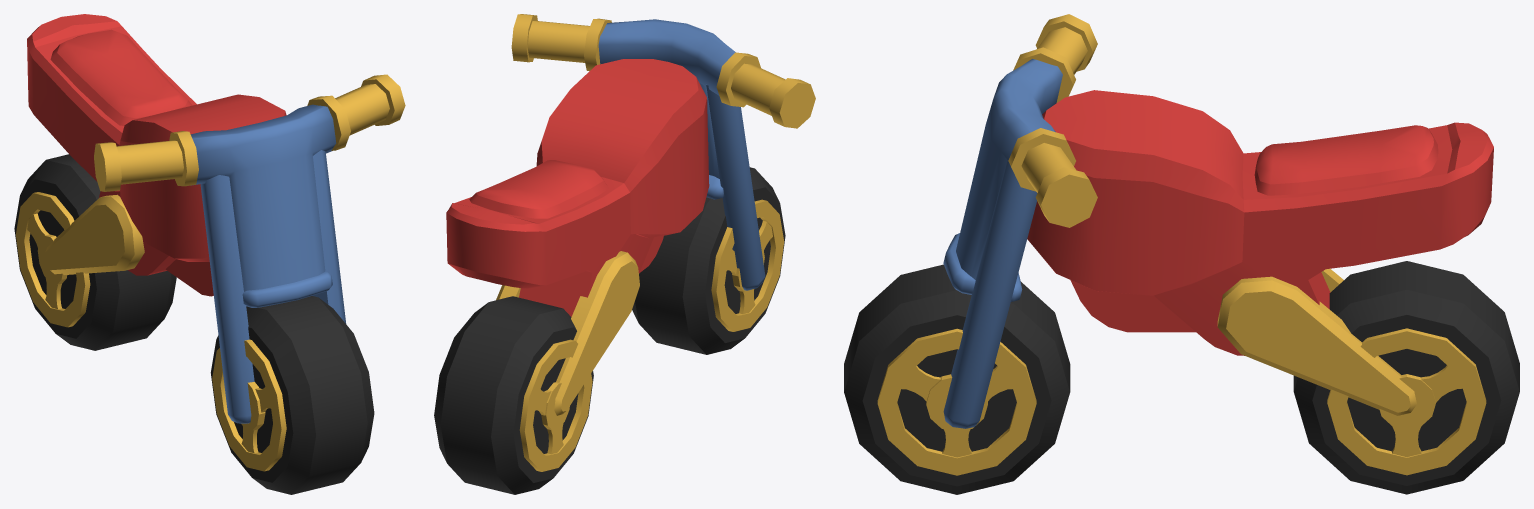
File: ToddlerBike_01.fbx
3 renders of one model, left to right at view 1: azimuth 30°, elevation 25°; view 2: azimuth 150°, elevation 25°; view 3: azimuth 270°, elevation 25°, orthographic. The views are drawn at different scales.
Parts seen in each view (by area): view 1: ToddlerBike_01.001, ToddlerBike_01, ToddlerBike_01_F, ToddlerBike_01_B; view 2: ToddlerBike_01, ToddlerBike_01_B, ToddlerBike_01.001, ToddlerBike_01_F; view 3: ToddlerBike_01, ToddlerBike_01_B, ToddlerBike_01_F, ToddlerBike_01.001.
Boxes of the visible parts, x1=… form: ToddlerBike_01.001: x1=94, y1=74, x2=405, y2=423; ToddlerBike_01: x1=27, y1=14, x2=286, y2=296; ToddlerBike_01_F: x1=210, y1=296, x2=374, y2=494; ToddlerBike_01_B: x1=14, y1=154, x2=176, y2=350; ToddlerBike_01: x1=446, y1=59, x2=709, y2=415; ToddlerBike_01_B: x1=434, y1=296, x2=593, y2=494; ToddlerBike_01.001: x1=511, y1=14, x2=815, y2=290; ToddlerBike_01_F: x1=632, y1=167, x2=785, y2=354; ToddlerBike_01: x1=1027, y1=90, x2=1493, y2=415; ToddlerBike_01_B: x1=1293, y1=261, x2=1519, y2=494; ToddlerBike_01_F: x1=844, y1=264, x2=1070, y2=494; ToddlerBike_01.001: x1=943, y1=14, x2=1097, y2=428.
Size of the model in its own units: 0.5281 by 0.5758 by 0.9023.
